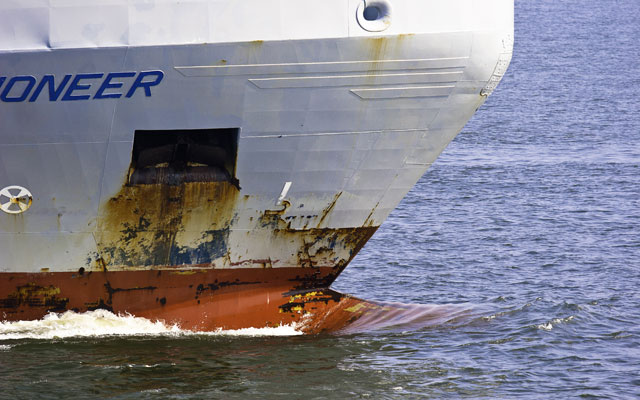rust: (122, 180, 230, 268), (269, 216, 377, 275)
